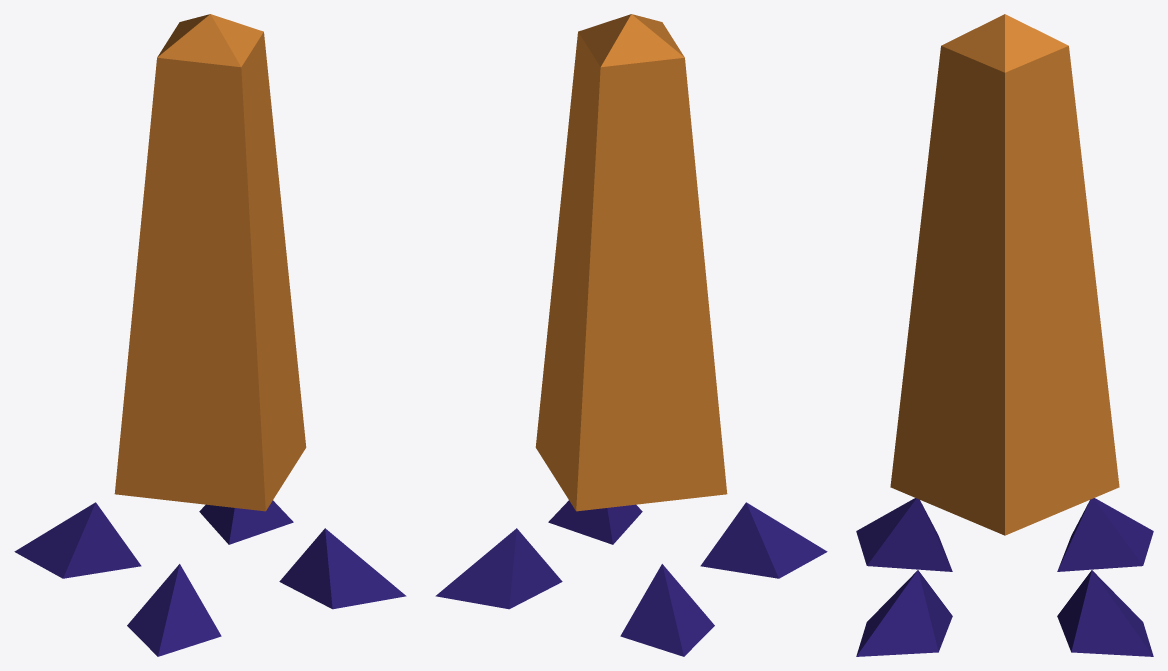
File: Crystal.fbx
The picture shows the model from 3 angles, left to right: view 1: azimuth 30°, elevation 25°; view 2: azimuth 150°, elevation 25°; view 3: azimuth 270°, elevation 25°; orthographic projection. The views are drawn at different scales.
Visible parts, largest first — view 1: Crystal; view 2: Crystal; view 3: Crystal.
Boxes of the visible parts, box(x1,y1,x2,y2) form: Crystal: box(14, 14, 406, 656); Crystal: box(435, 14, 827, 656); Crystal: box(856, 14, 1153, 656).
Bounding box in the file's own units: 5.85 × 12.59 × 5.85.
